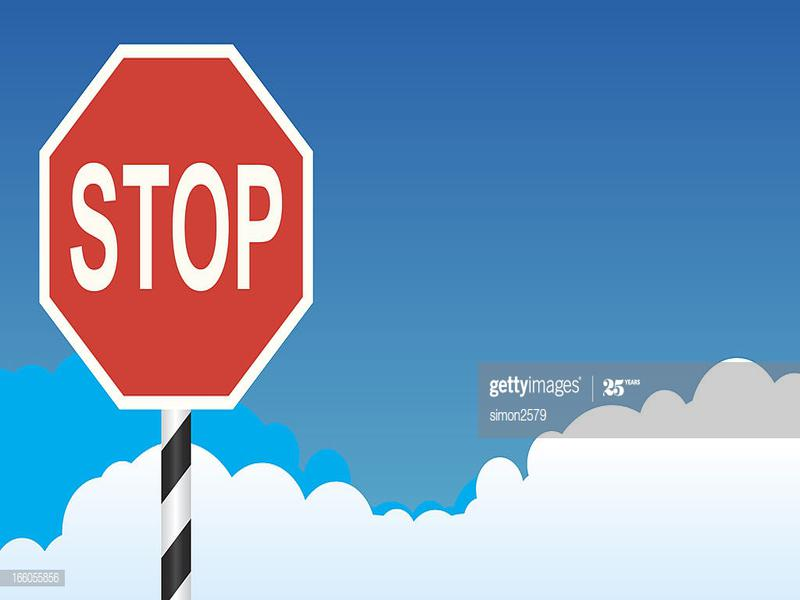stop: (36, 35, 318, 415)
